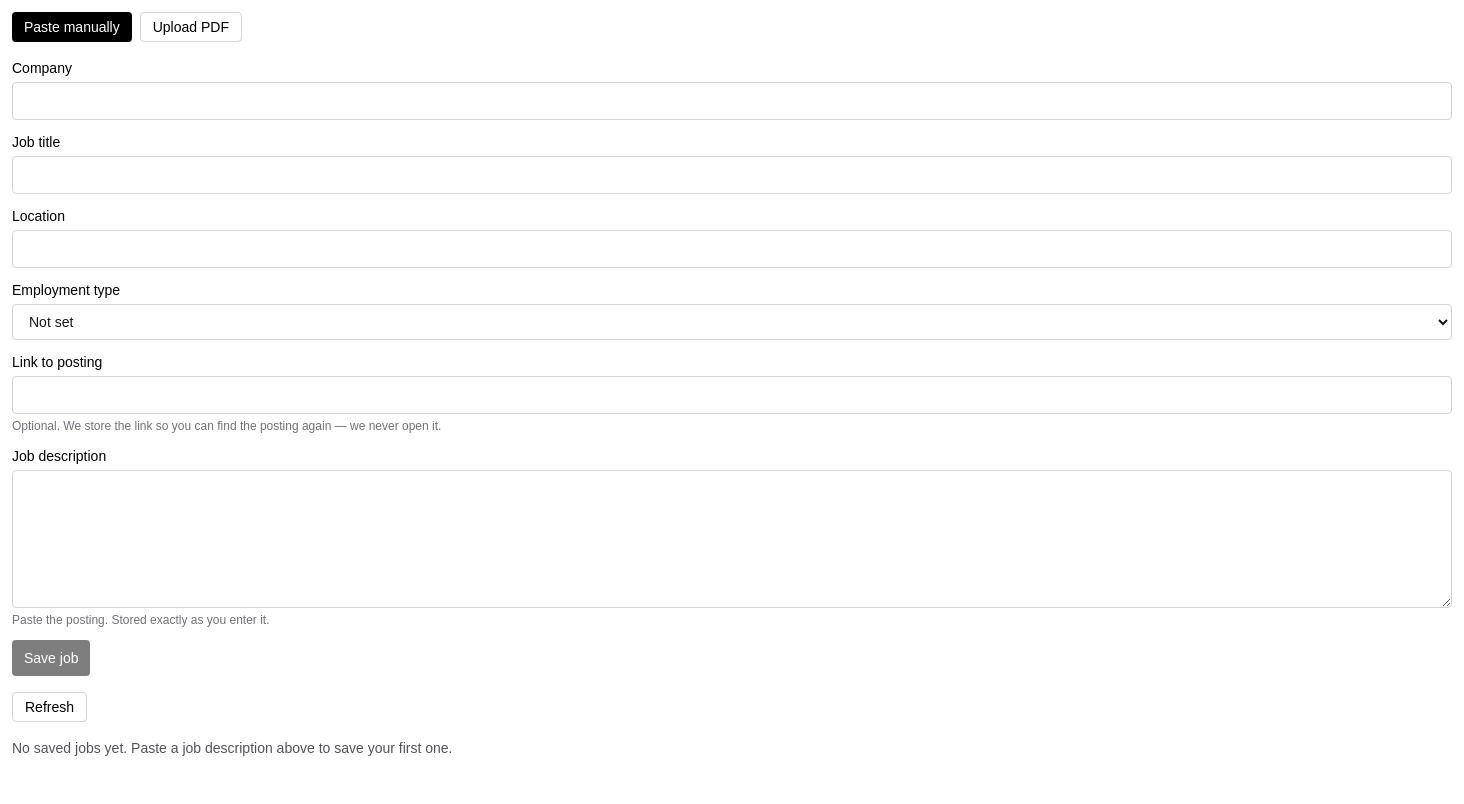
Scenario: saving a job › saves a job and shows it immediately
Expected: the text "No saved jobs yet" is shown, [12, 740, 452, 756]
Type "Acme" into the field labelled "Company" at (732, 101), box [12, 82, 1452, 120]
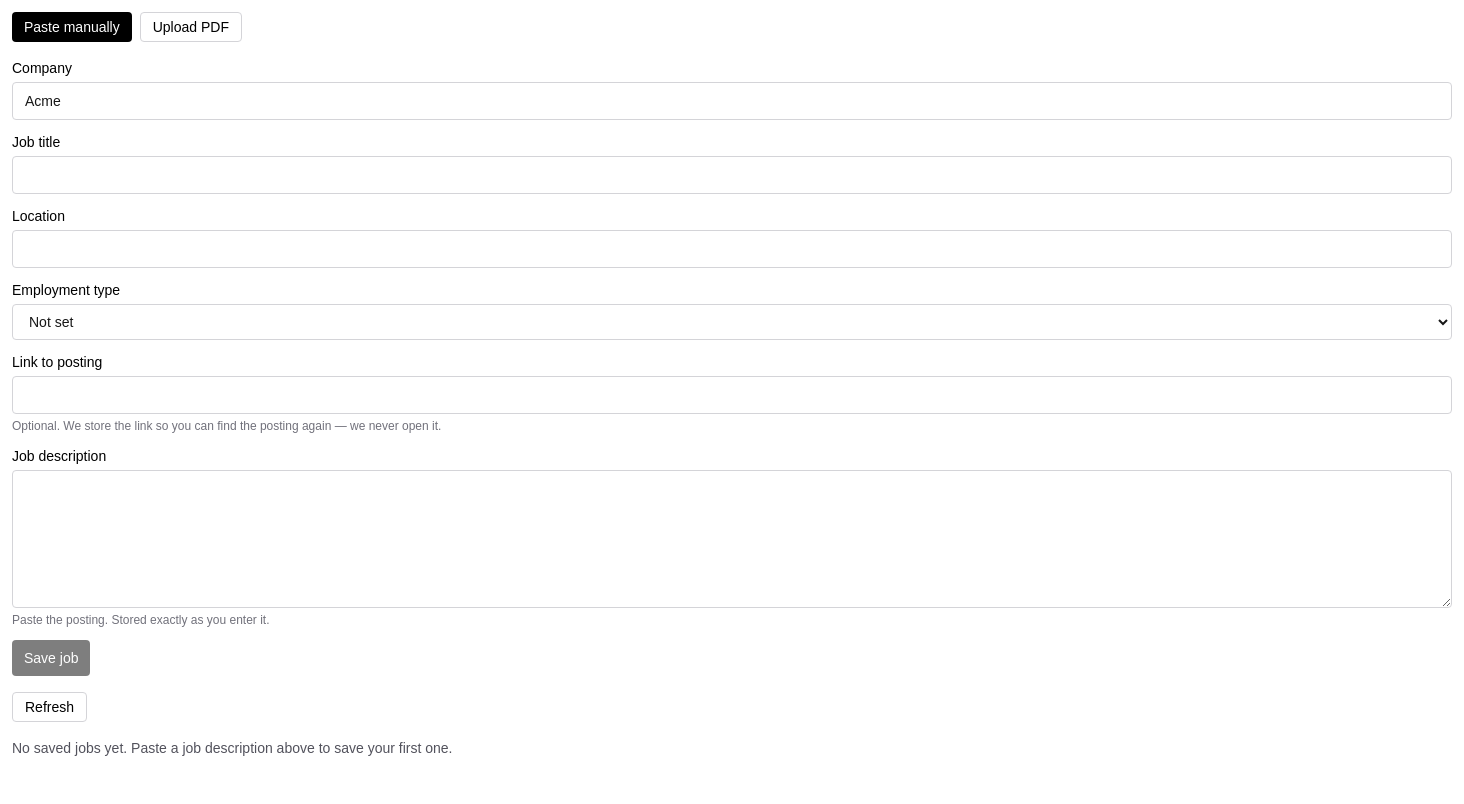
Type "Engineer" into the field labelled "Job title" at (732, 175), box [12, 156, 1452, 194]
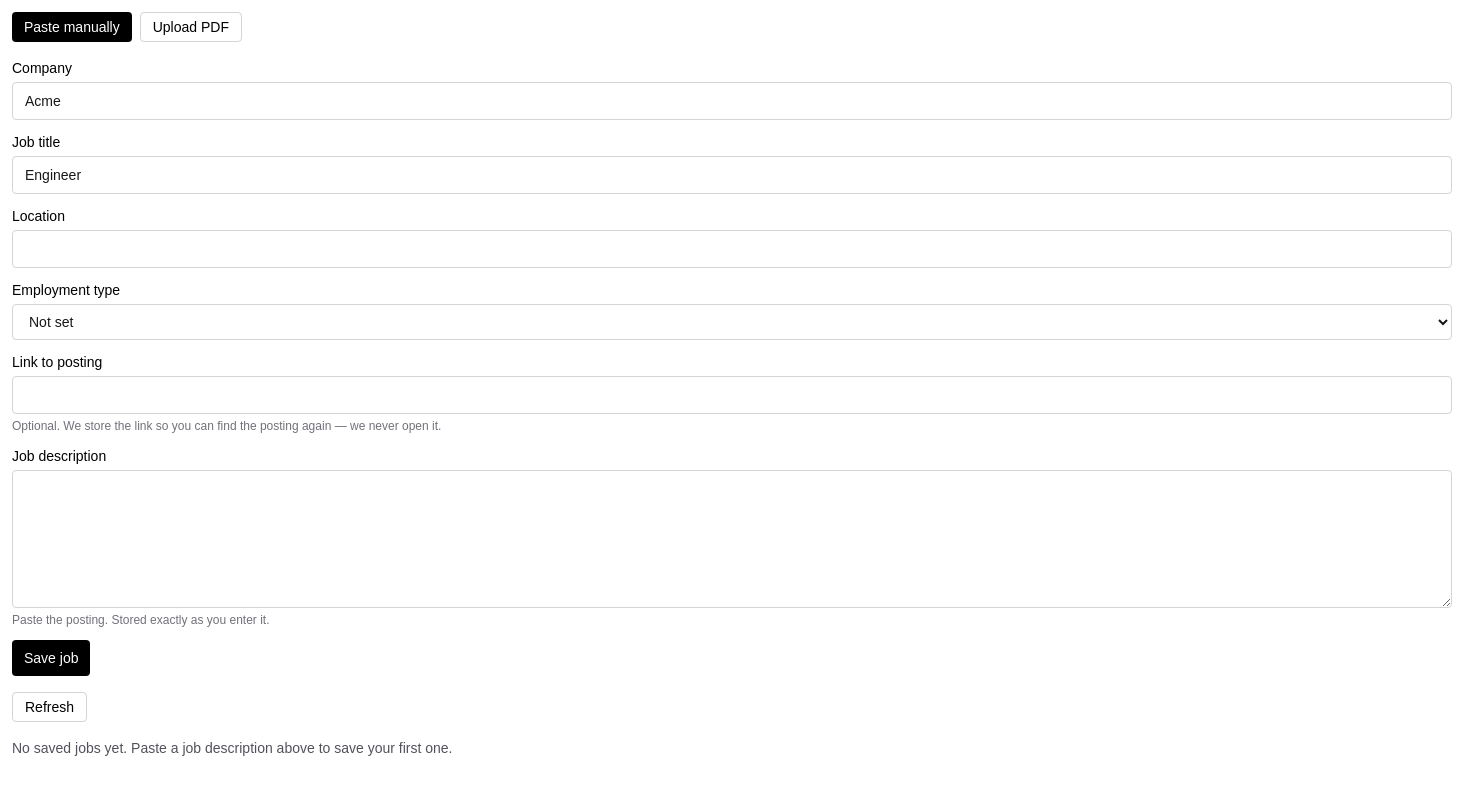
Type "Do the work." into the text box labelled "Job description" at (732, 539), box [12, 470, 1452, 608]
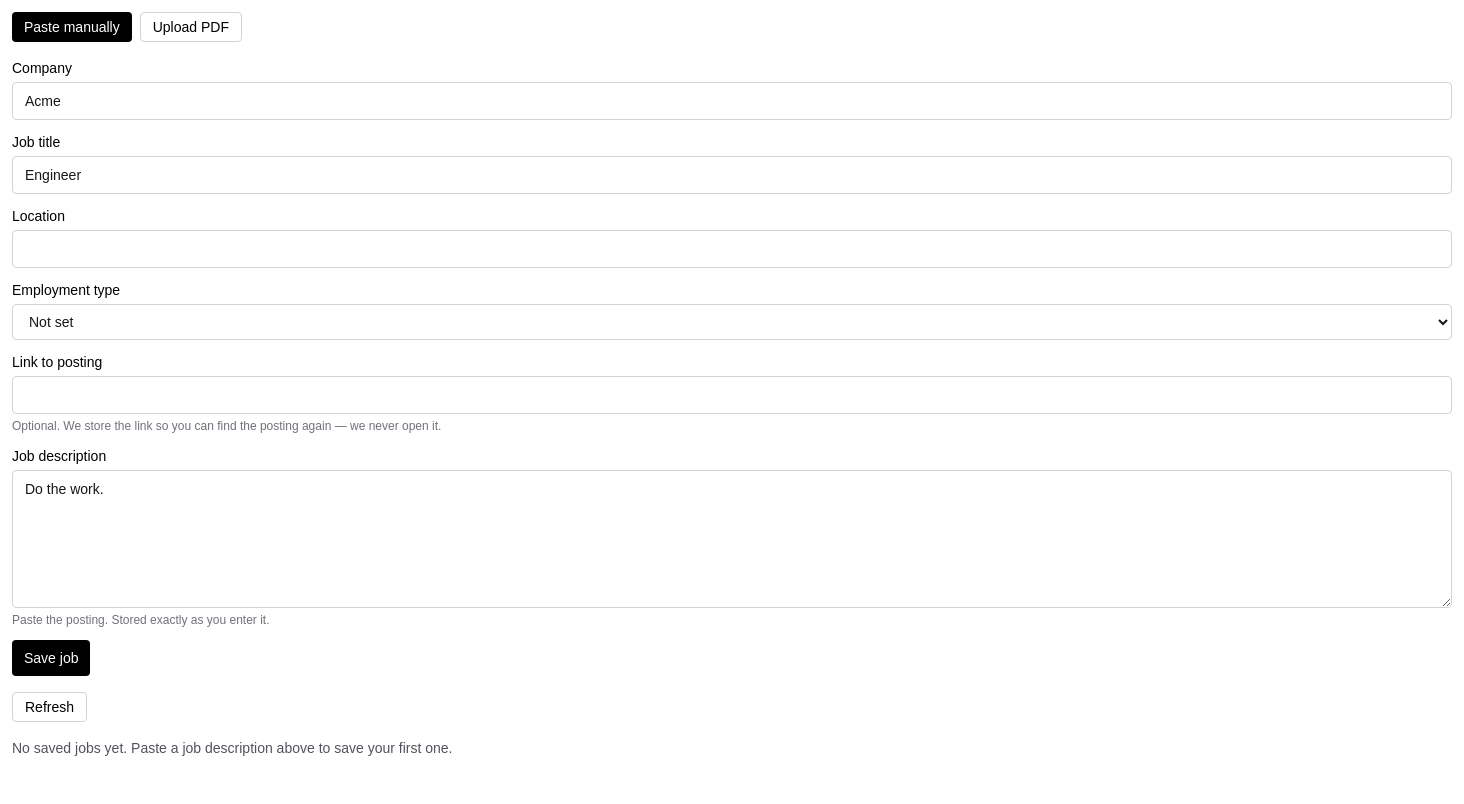
Click the button "Save job" at (51, 658), box [12, 640, 90, 676]
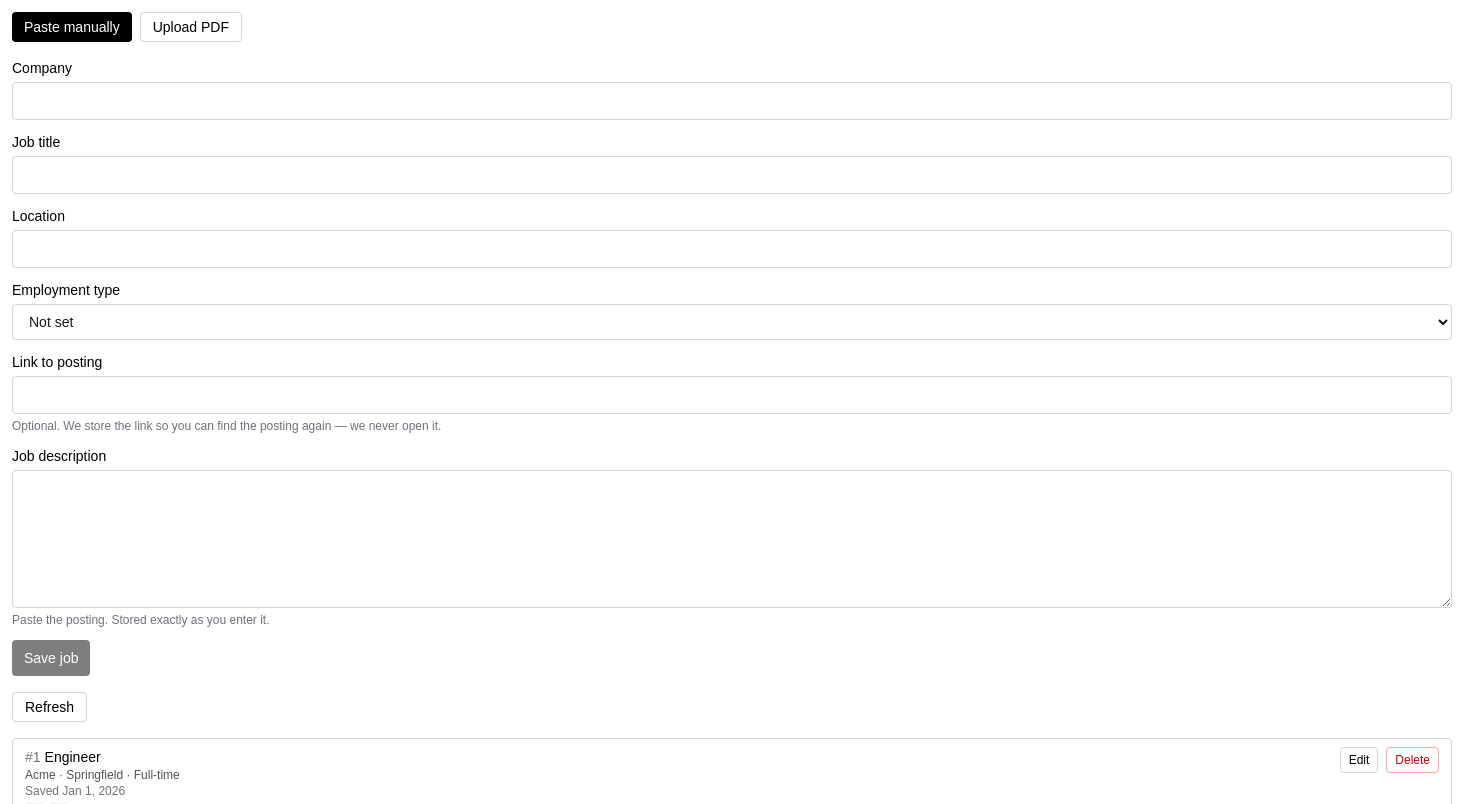
Result: the text "Engineer" is shown at [45, 749, 101, 765]
